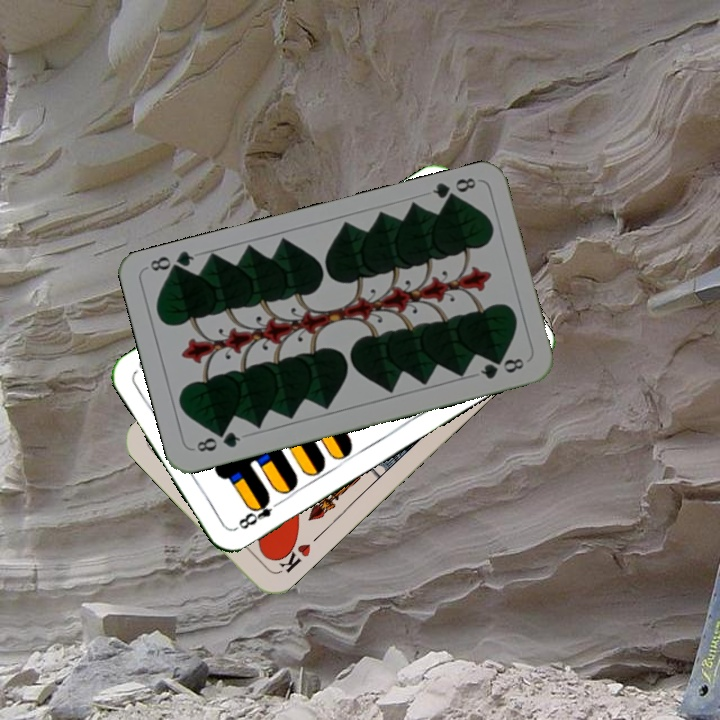E8: (232, 492, 285, 532)
G8: (428, 173, 479, 206), (192, 427, 243, 455)
HK: (270, 534, 314, 577)
